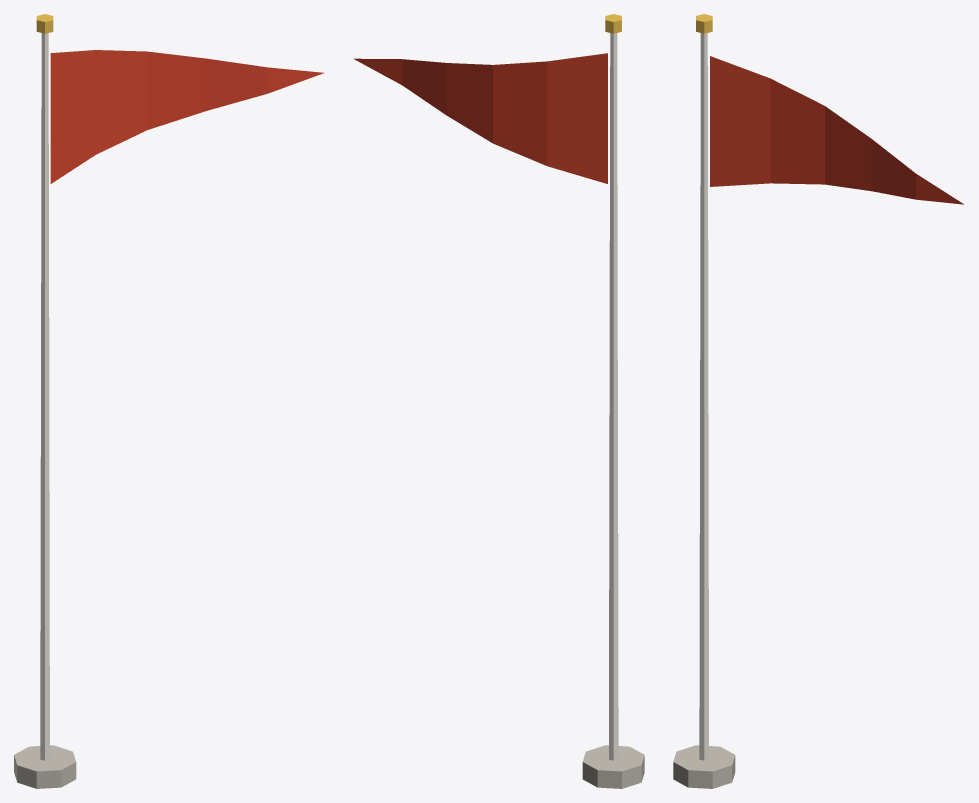
File: flag_pole.glb
The picture shows the model from 3 angles, left to right: view 1: azimuth 30°, elevation 25°; view 2: azimuth 150°, elevation 25°; view 3: azimuth 330°, elevation 25°; orthographic projection.
Visible parts, largest first — view 1: flag_pole; view 2: flag_pole; view 3: flag_pole.
Boxes of the visible parts, box(x1,y1,x2,y2) form: flag_pole: box(14, 14, 323, 788); flag_pole: box(353, 14, 644, 788); flag_pole: box(673, 14, 963, 788).
Size of the model in its own units: 2.14 by 5.2 by 0.4.
